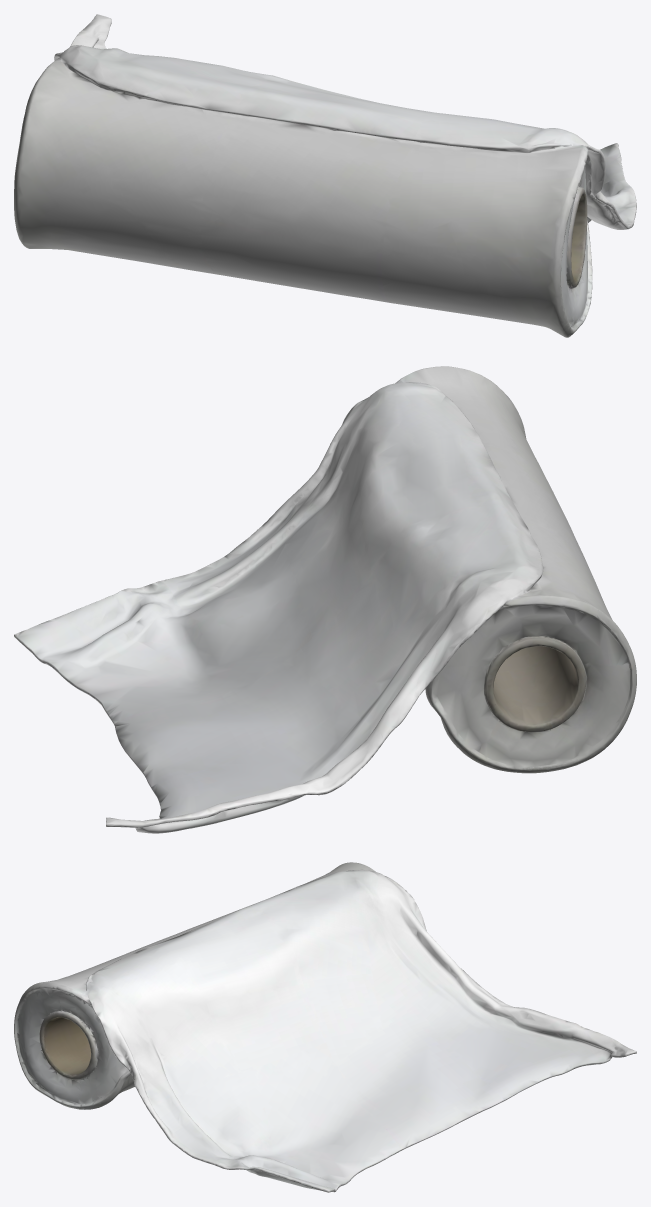
The model's file is pmh-6010.glb.
3 views of the same model, one above another, from view 1: azimuth 30°, elevation 25°; view 2: azimuth 150°, elevation 25°; view 3: azimuth 270°, elevation 25° (orthographic). The views are drawn at different scales.
Visible parts, largest first — view 1: tripo_node_9ca448aa-2e6b-4e72-9c1f-5b05f01278d9; view 2: tripo_node_9ca448aa-2e6b-4e72-9c1f-5b05f01278d9; view 3: tripo_node_9ca448aa-2e6b-4e72-9c1f-5b05f01278d9.
Boxes of the visible parts, bbox=[...] form: tripo_node_9ca448aa-2e6b-4e72-9c1f-5b05f01278d9: bbox=[14, 14, 636, 337]; tripo_node_9ca448aa-2e6b-4e72-9c1f-5b05f01278d9: bbox=[14, 366, 636, 833]; tripo_node_9ca448aa-2e6b-4e72-9c1f-5b05f01278d9: bbox=[14, 862, 636, 1192].
Size of the model in its own units: 0.8036 by 0.2834 by 0.9999.
Materials: 1 (1 with a texture image).
